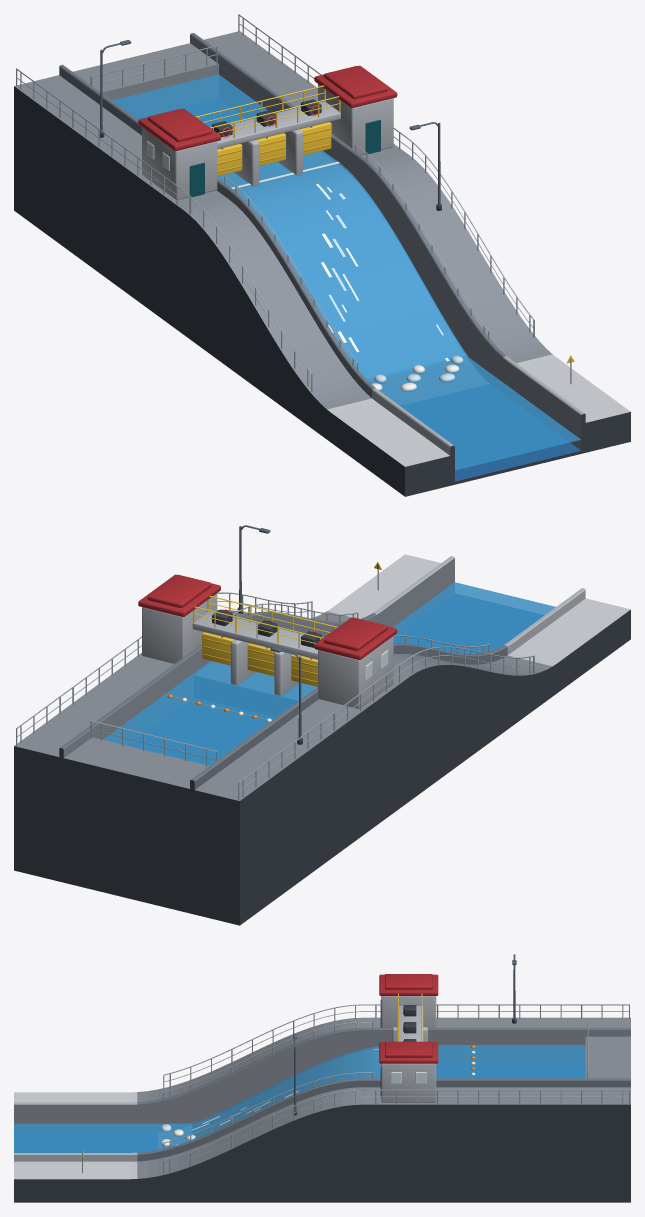
Rendered from represa.glb.
3 renders of one model, top to bottom at view 1: azimuth 30°, elevation 25°; view 2: azimuth 150°, elevation 25°; view 3: azimuth 270°, elevation 25°, orthographic. The views are drawn at different scales.
Parts seen in each view (by area): view 1: represa, comporta_3, comporta_2, comporta_1; view 2: represa, comporta_3, comporta_2, comporta_1; view 3: represa.
Part boxes in pixels (box(x1,y1,x2,y2)): represa: box(14, 14, 630, 496); comporta_3: box(299, 122, 331, 155); comporta_2: box(256, 133, 285, 165); comporta_1: box(217, 144, 242, 176); represa: box(14, 525, 630, 925); comporta_3: box(202, 632, 234, 665); comporta_2: box(247, 643, 274, 676); comporta_1: box(291, 654, 317, 686); represa: box(14, 954, 630, 1202).
Size of the model in its own units: 15 by 13.58 by 45.
4 materials, 1 textured.
